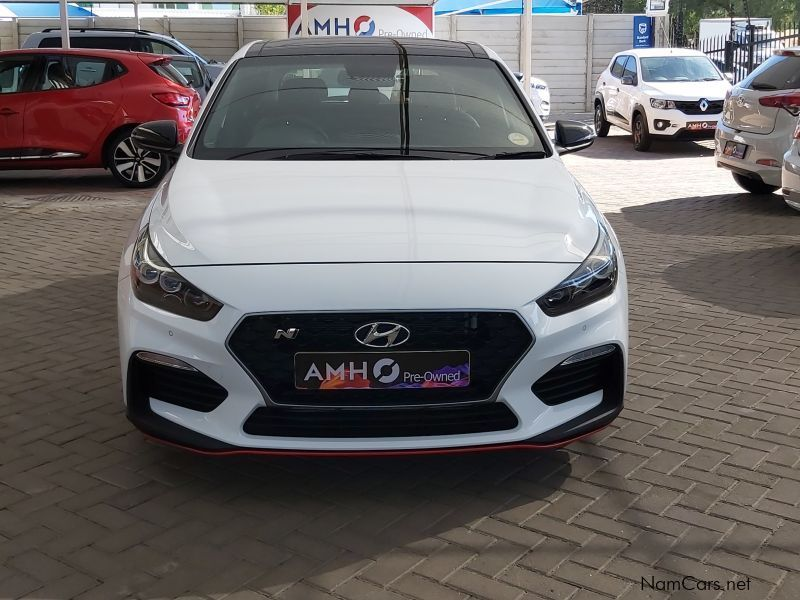car: (112, 32, 633, 461), (1, 48, 204, 192), (592, 46, 743, 153), (714, 44, 800, 195)
